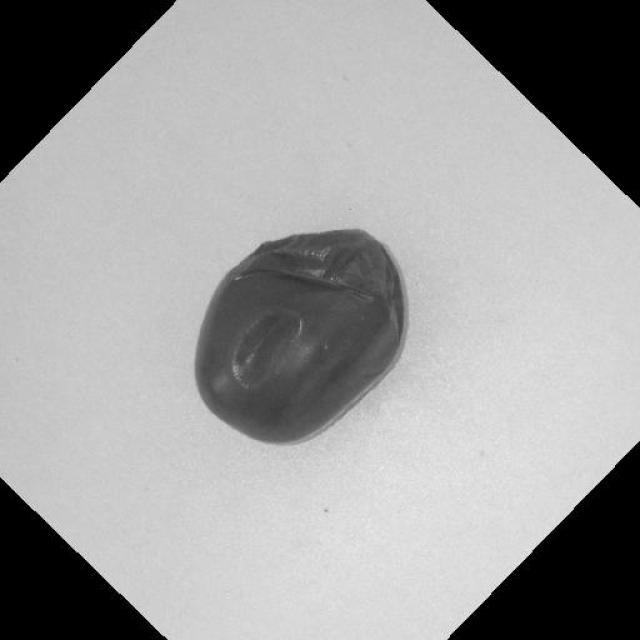Stale_tomato: (190, 233, 418, 438)
